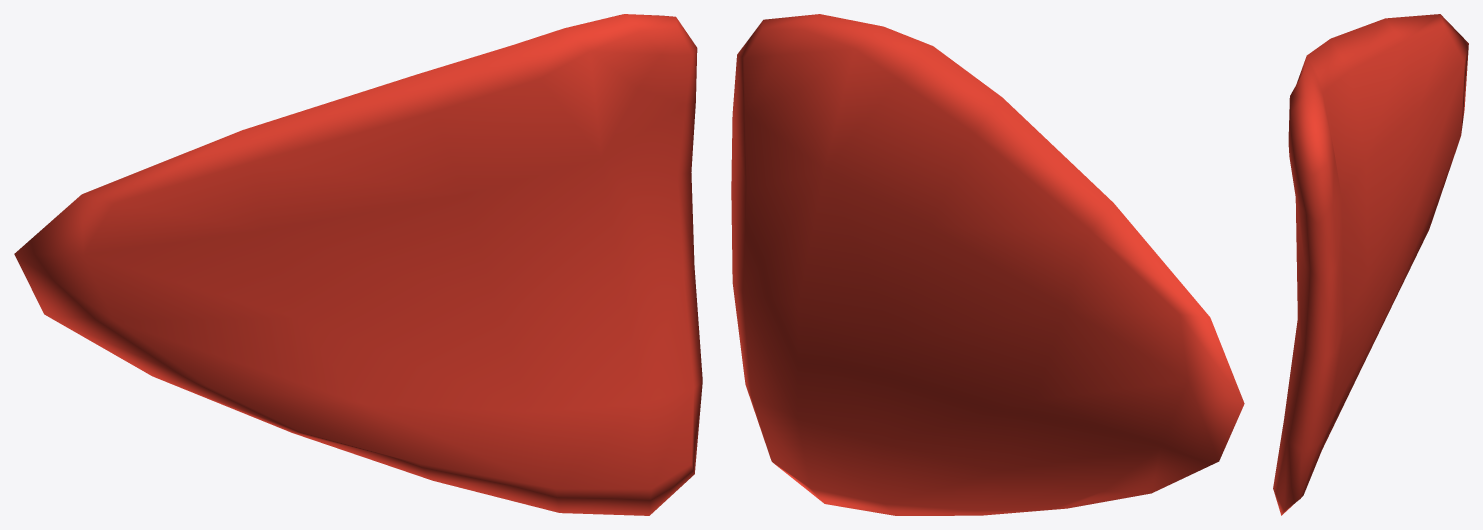
The model's file is Orbicularis_oris-_Insertion.r_Generated_Mesh_From_X3D.773.glb.
The picture shows the model from 3 angles, left to right: view 1: azimuth 30°, elevation 25°; view 2: azimuth 150°, elevation 25°; view 3: azimuth 270°, elevation 25°; orthographic projection. The views are drawn at different scales.
Visible parts, largest first — view 1: Orbicularis_oris-_Insertion.r_Generated_Mesh_From_X3D.773; view 2: Orbicularis_oris-_Insertion.r_Generated_Mesh_From_X3D.773; view 3: Orbicularis_oris-_Insertion.r_Generated_Mesh_From_X3D.773.
Part boxes in pixels (bbox=[...]): Orbicularis_oris-_Insertion.r_Generated_Mesh_From_X3D.773: bbox=[14, 14, 702, 515]; Orbicularis_oris-_Insertion.r_Generated_Mesh_From_X3D.773: bbox=[731, 14, 1244, 515]; Orbicularis_oris-_Insertion.r_Generated_Mesh_From_X3D.773: bbox=[1273, 14, 1468, 515].
Bounding box in the file's own units: 0.00579 × 0.00463 × 0.00198.
